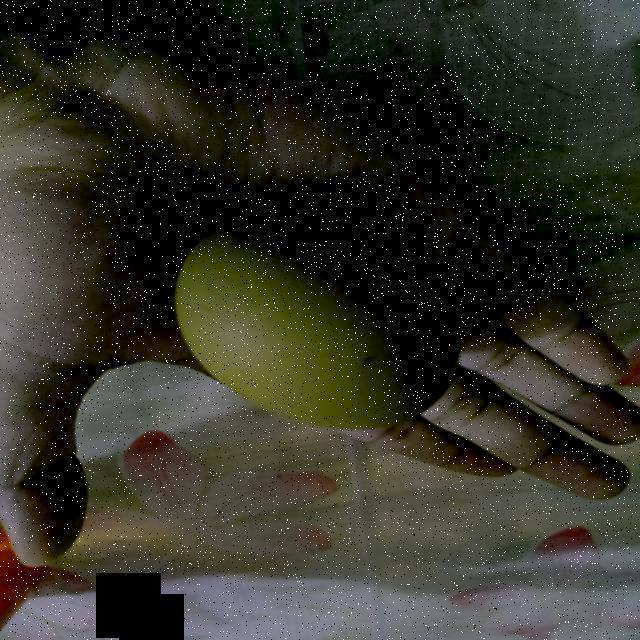egg: (174, 202, 472, 436)
